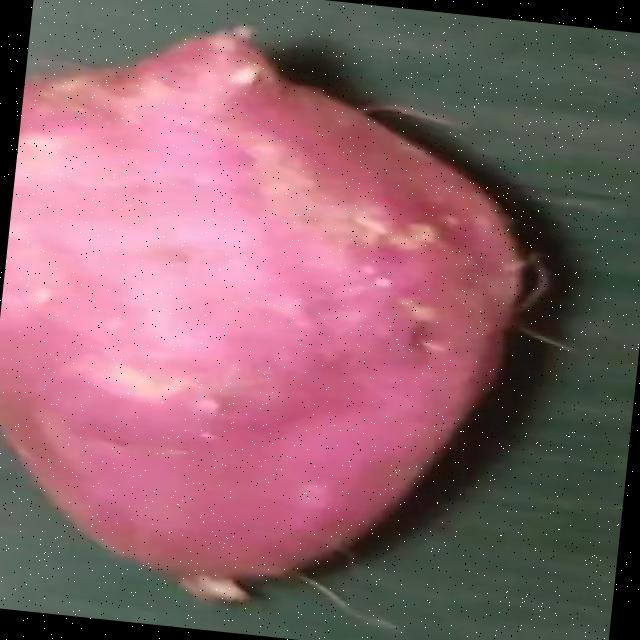Sweet Potato: (0, 28, 525, 579)
